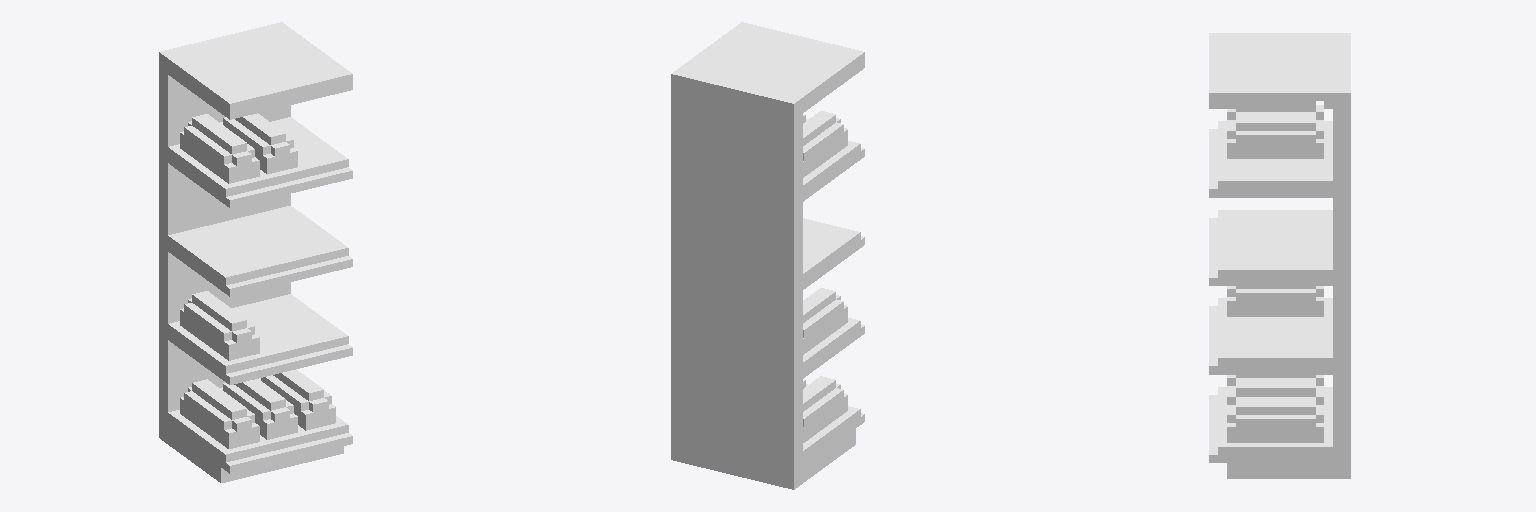
File: fullBreadShelf2.obj
The picture shows the model from 3 angles: view 1: azimuth 30°, elevation 25°; view 2: azimuth 150°, elevation 25°; view 3: azimuth 270°, elevation 25°; orthographic projection.
Visible parts, largest first — view 1: object 1; view 2: object 1; view 3: object 1.
Boxes of the visible parts, x1=… form: object 1: x1=159, y1=22, x2=352, y2=482; object 1: x1=671, y1=22, x2=864, y2=489; object 1: x1=1209, y1=33, x2=1350, y2=478.
Size of the model in its own units: 1.6 by 4.8 by 1.6.